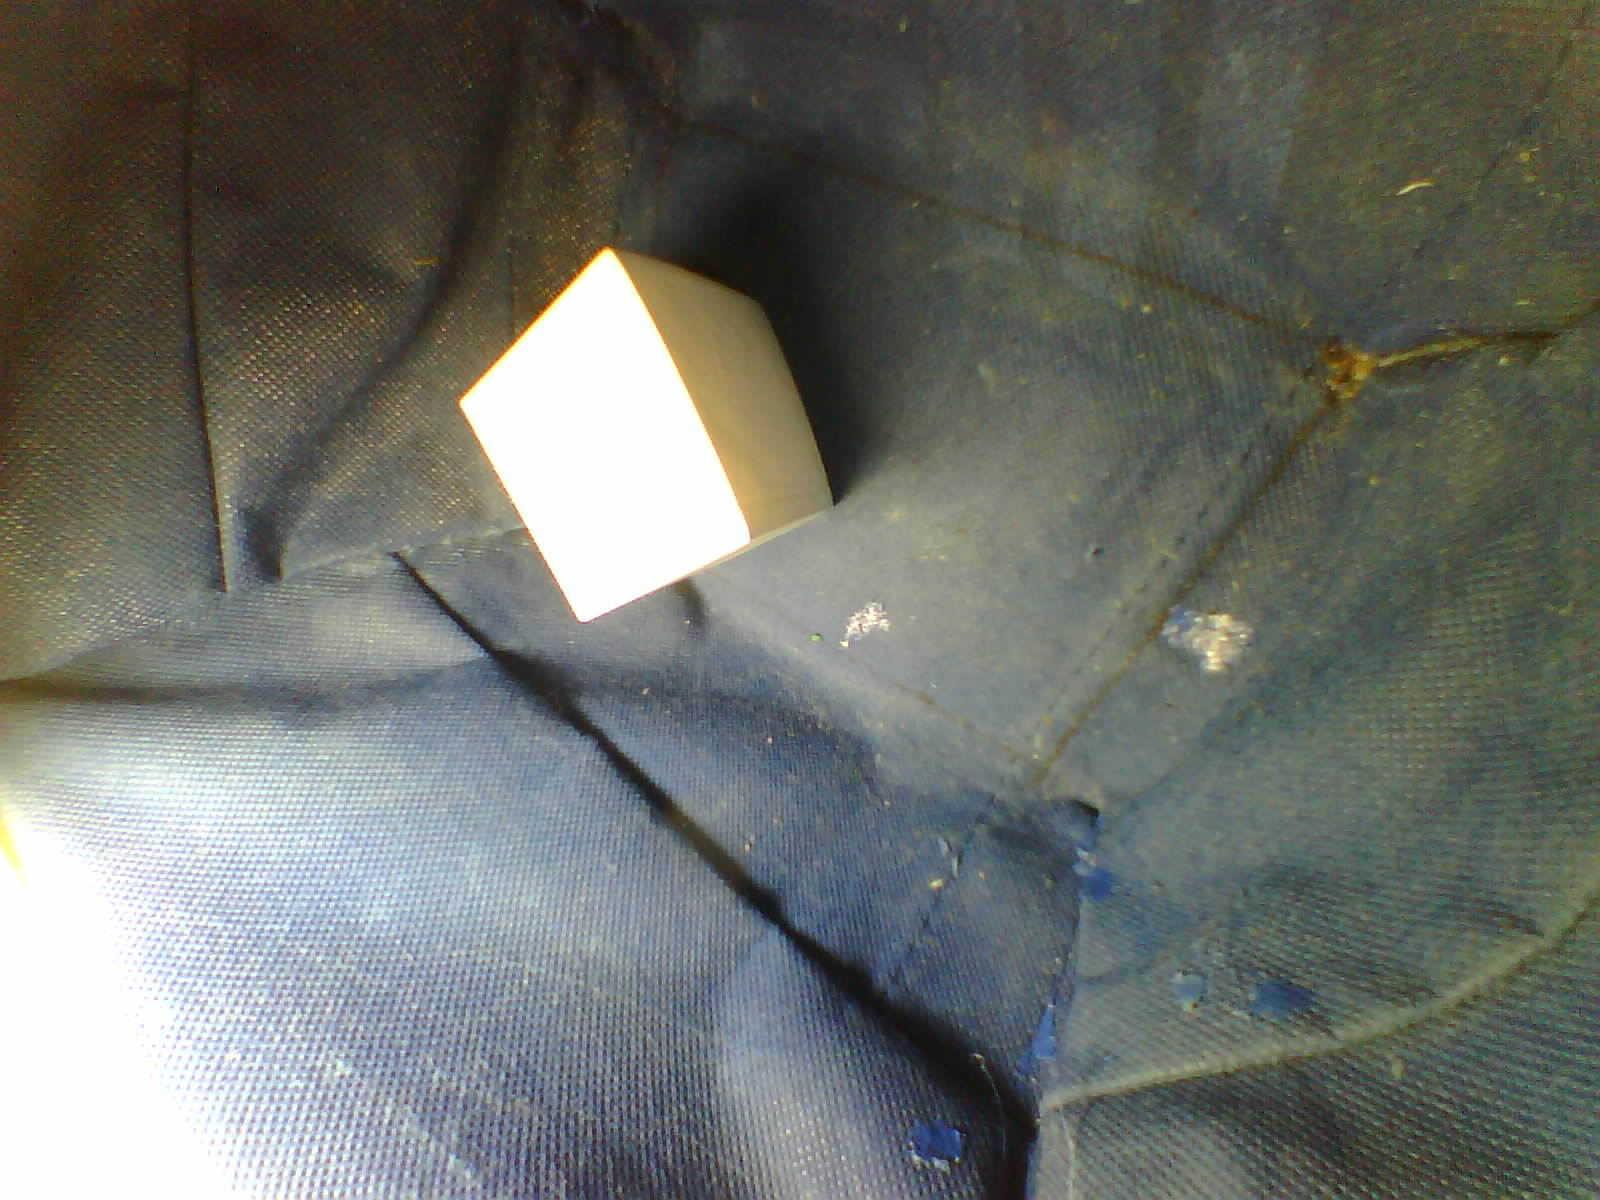cube-hard: (451, 232, 852, 635)
